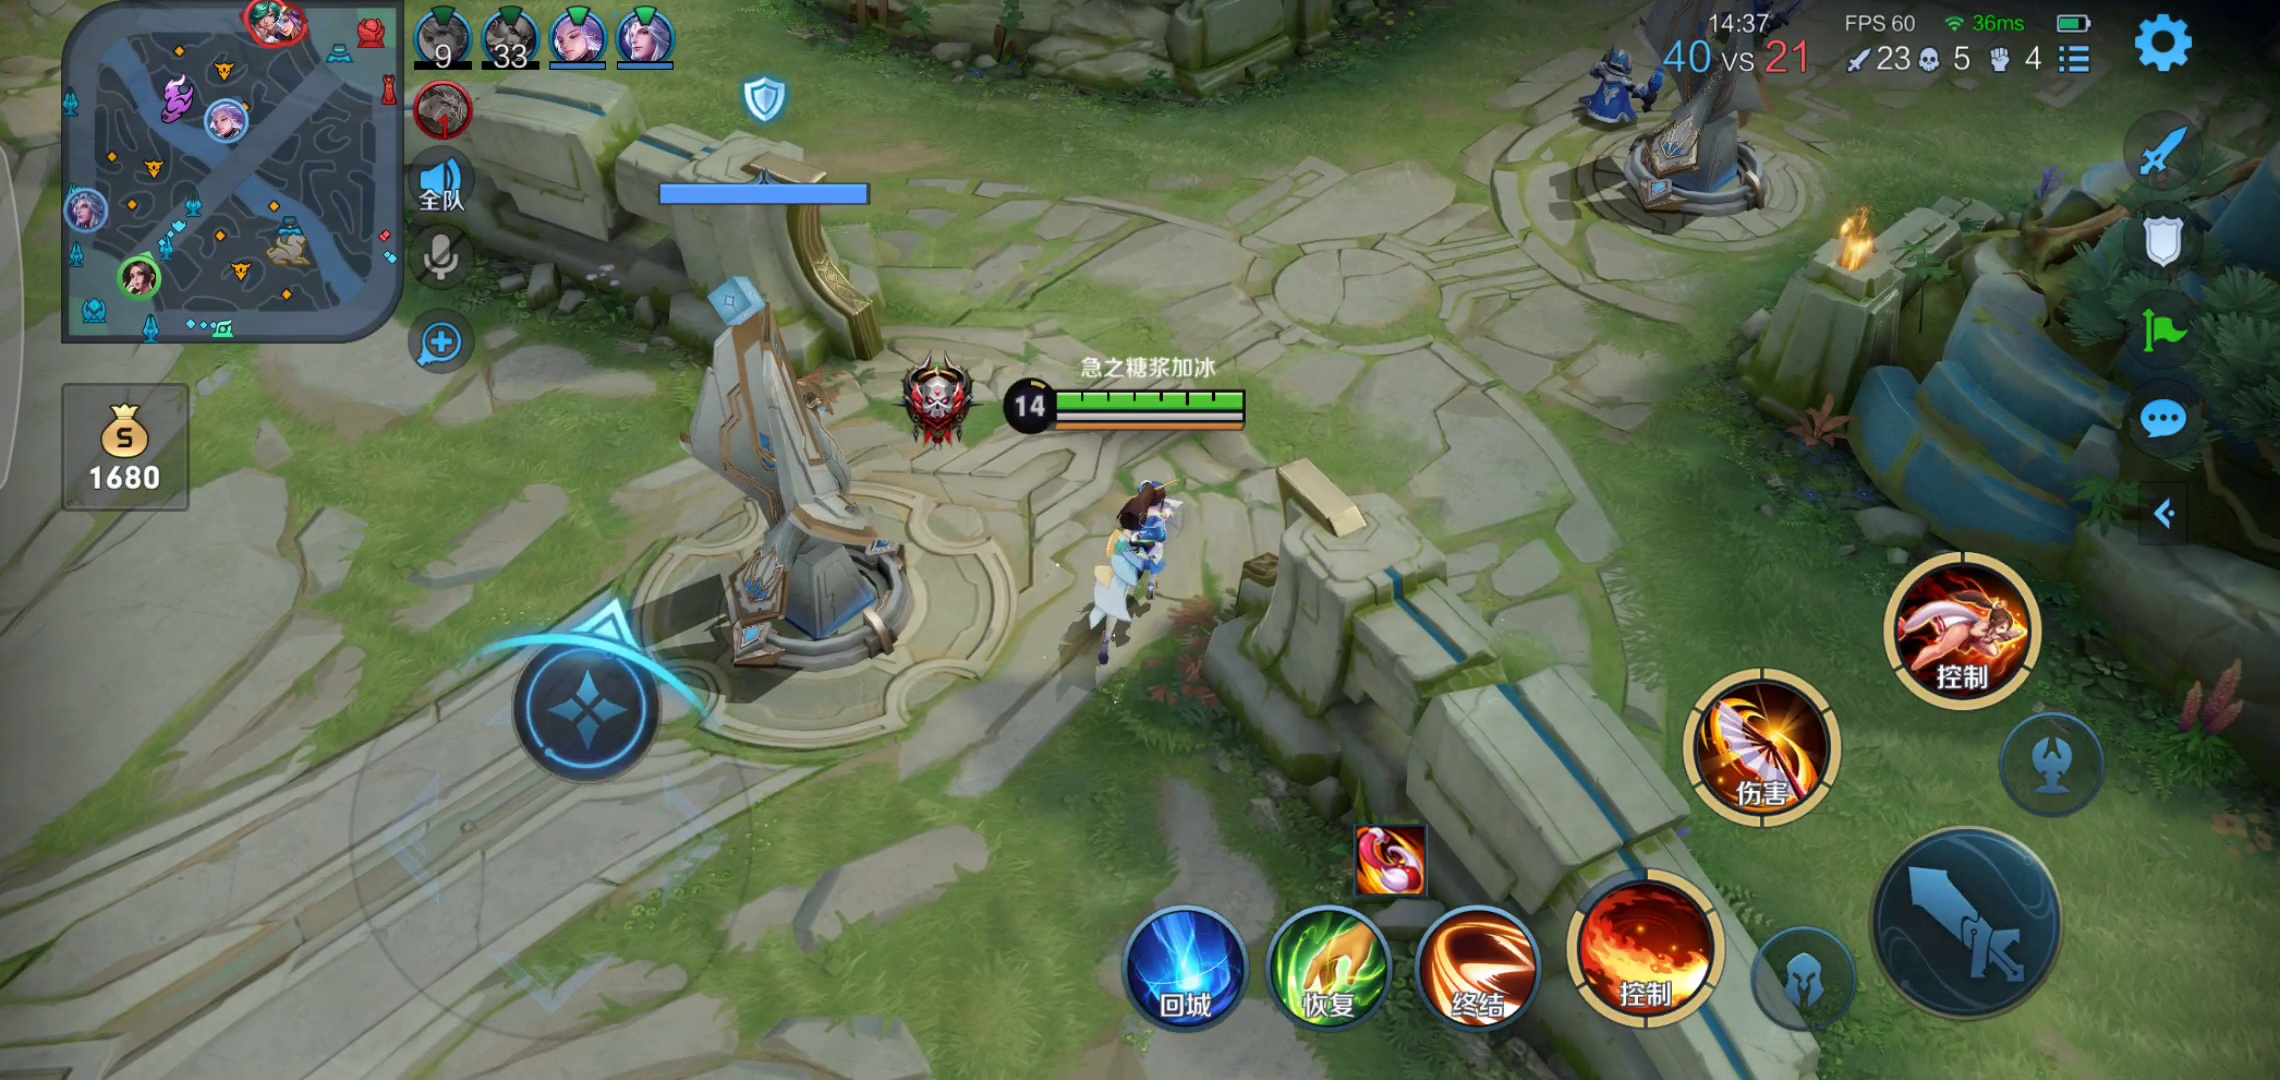hero: (1056, 465, 1204, 677)
soldier: (1567, 41, 1653, 140)
tower: (651, 262, 939, 677), (1637, 1, 1791, 230)
